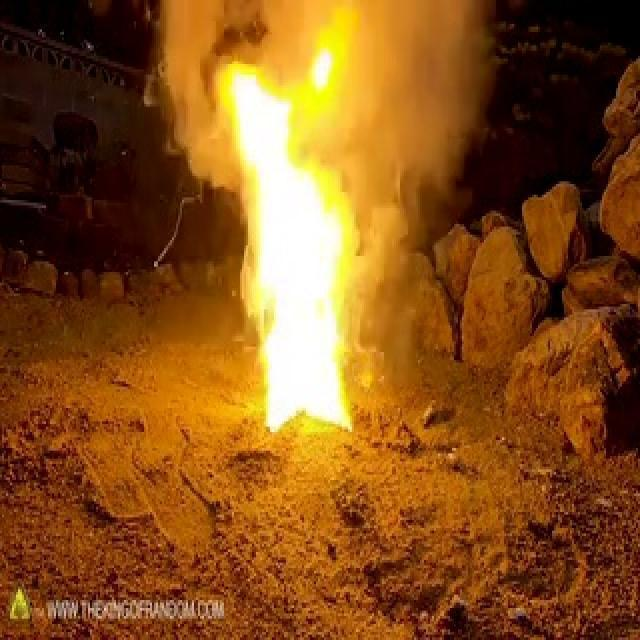Fire: (217, 62, 359, 422)
Smoke: (322, 8, 498, 198)
